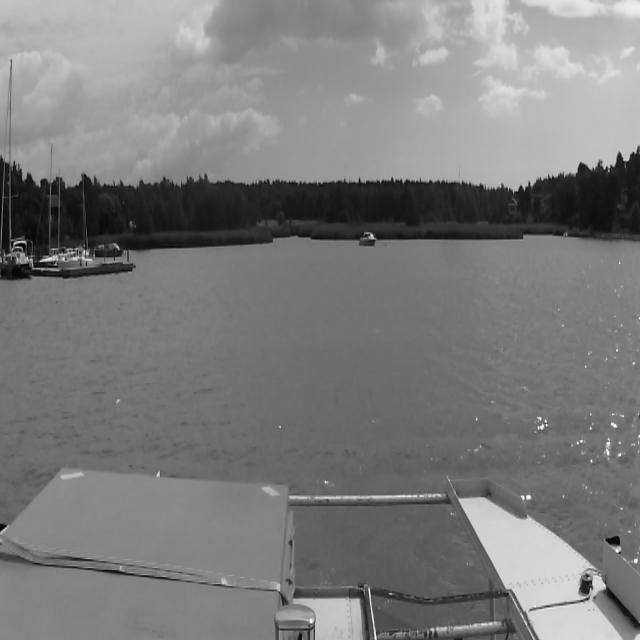ship: (357, 231, 377, 247)
